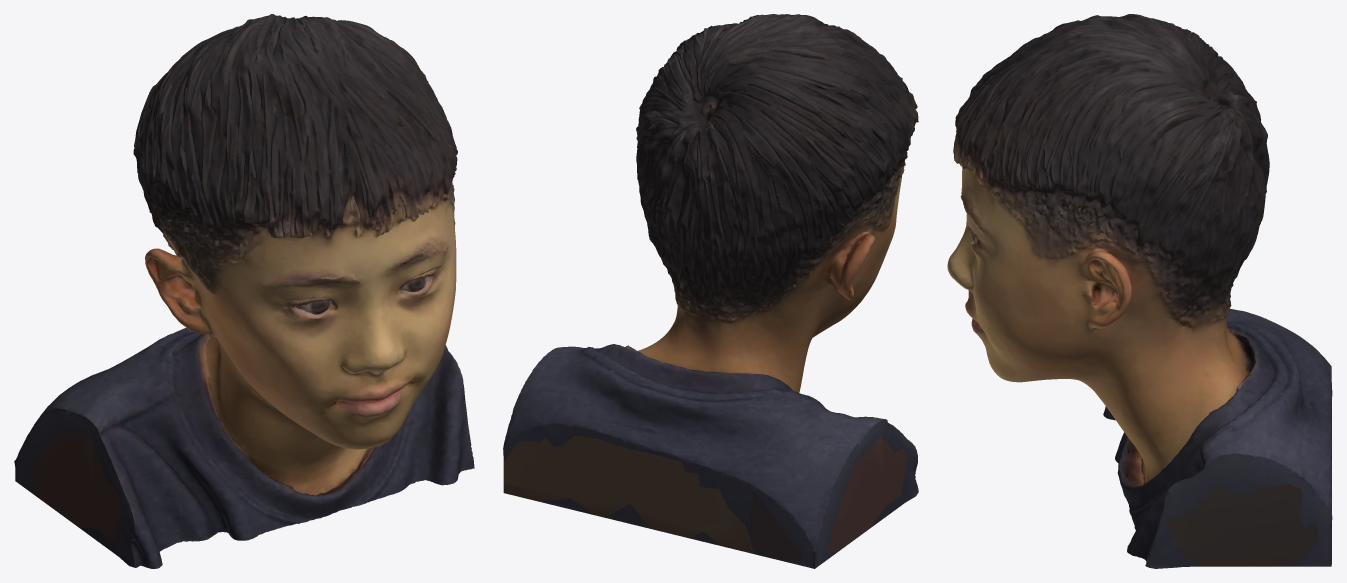
Rendered from 真人头像_儿童_男孩01_opt.glb.
3 renders of one model, left to right at view 1: azimuth 30°, elevation 25°; view 2: azimuth 150°, elevation 25°; view 3: azimuth 270°, elevation 25°, orthographic. The views are drawn at different scales.
Parts seen in each view (by area): view 1: 0222-15_L, 0222-15_L_1; view 2: 0222-15_L, 0222-15_L_1; view 3: 0222-15_L, 0222-15_L_1.
Boxes of the visible parts, x1=… form: 0222-15_L: x1=14, y1=15, x2=474, y2=568; 0222-15_L_1: x1=129, y1=14, x2=473, y2=532; 0222-15_L: x1=503, y1=14, x2=918, y2=568; 0222-15_L_1: x1=503, y1=23, x2=918, y2=515; 0222-15_L: x1=947, y1=18, x2=1332, y2=568; 0222-15_L_1: x1=953, y1=14, x2=1332, y2=566.
Bounding box in the file's own units: 0.2258 × 0.3 × 0.2307.
Materials: 1 (1 with a texture image).
